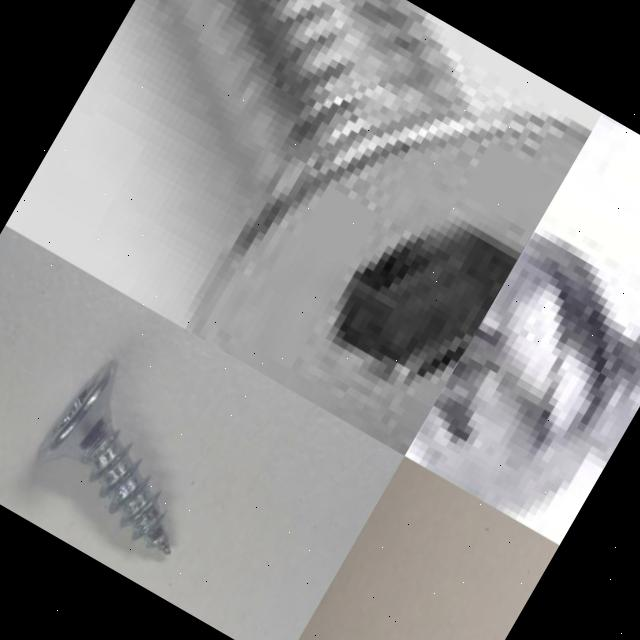Screw: (188, 0, 592, 456), (410, 234, 640, 520), (38, 359, 171, 554)
